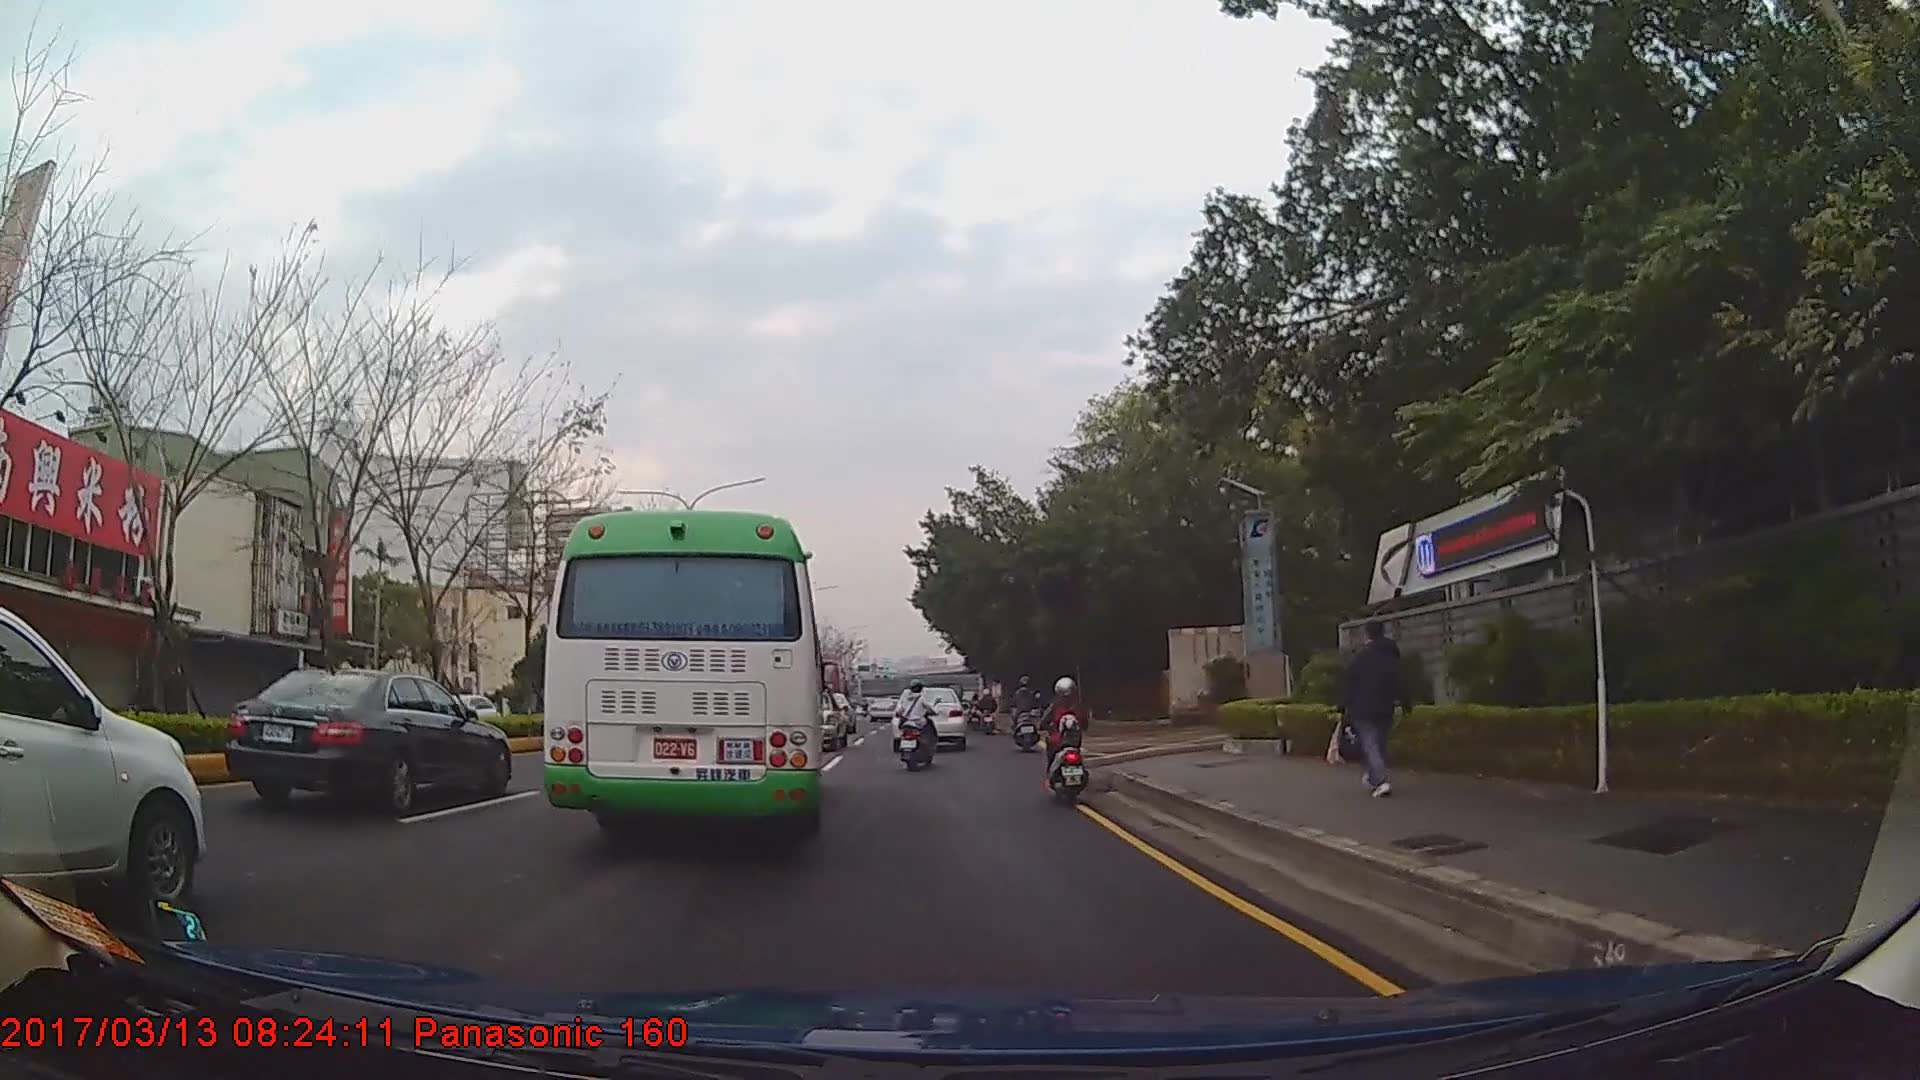pedestrian: (1327, 623, 1409, 795)
rider: (1043, 675, 1086, 801), (899, 680, 940, 769), (1008, 675, 1044, 751), (977, 689, 997, 724)
vehicle: (538, 506, 834, 847), (0, 595, 206, 910), (221, 665, 512, 812), (402, 682, 501, 734), (894, 682, 967, 750)
